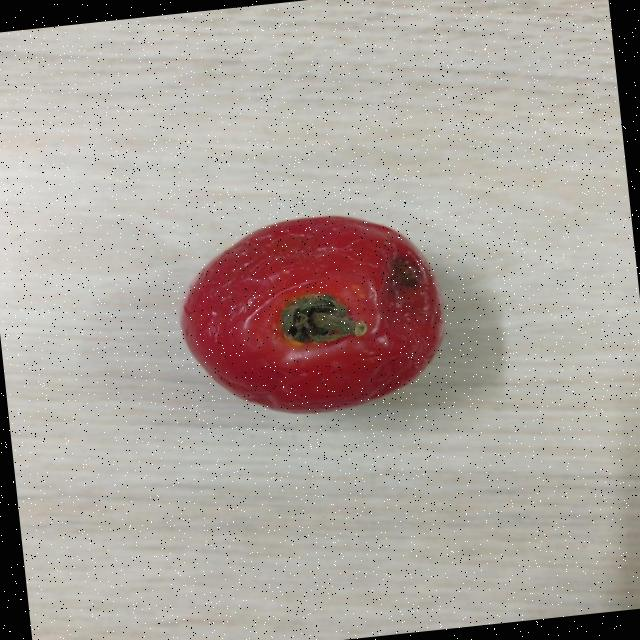Tomato: (174, 197, 464, 428)
